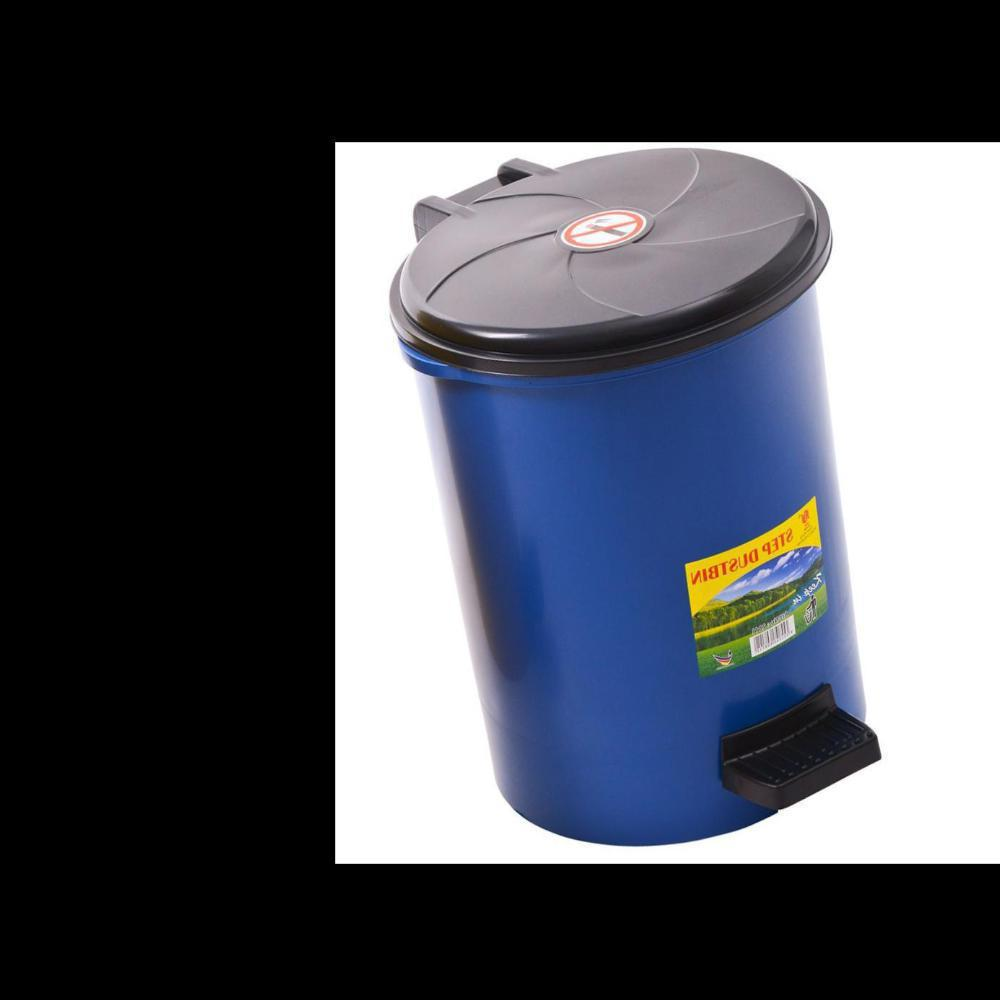Bote de Basura: (393, 156, 873, 841)
